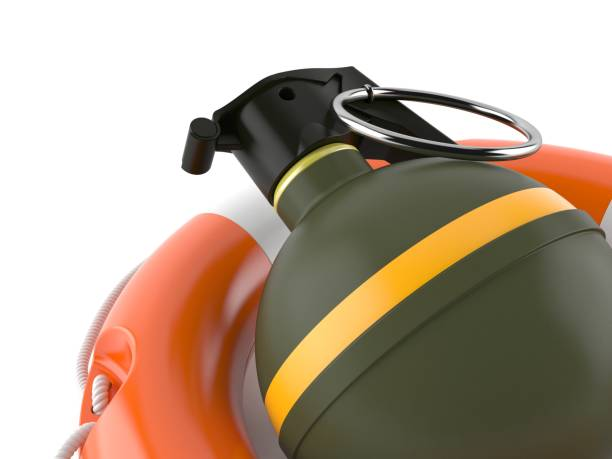e1: (184, 66, 612, 458)
